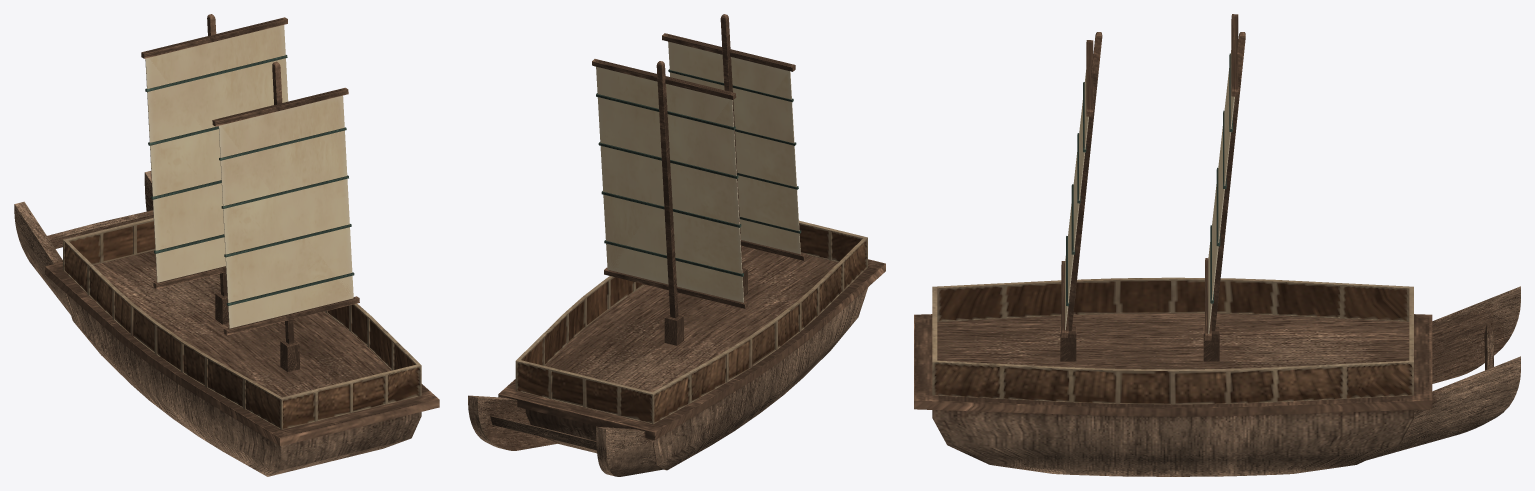
File: Ship_Shield_01.fbx
3 renders of one model, left to right at view 1: azimuth 30°, elevation 25°; view 2: azimuth 150°, elevation 25°; view 3: azimuth 270°, elevation 25°, orthographic. The views are drawn at different scales.
Visible parts, largest first — view 1: Ship_Shield_01; view 2: Ship_Shield_01; view 3: Ship_Shield_01.
Part boxes in pixels (x1,y1,x2,y2): Ship_Shield_01: (14, 14, 439, 476); Ship_Shield_01: (468, 14, 885, 476); Ship_Shield_01: (914, 14, 1520, 476).
Bounding box in the file's own units: 938 × 1842 × 2391.
